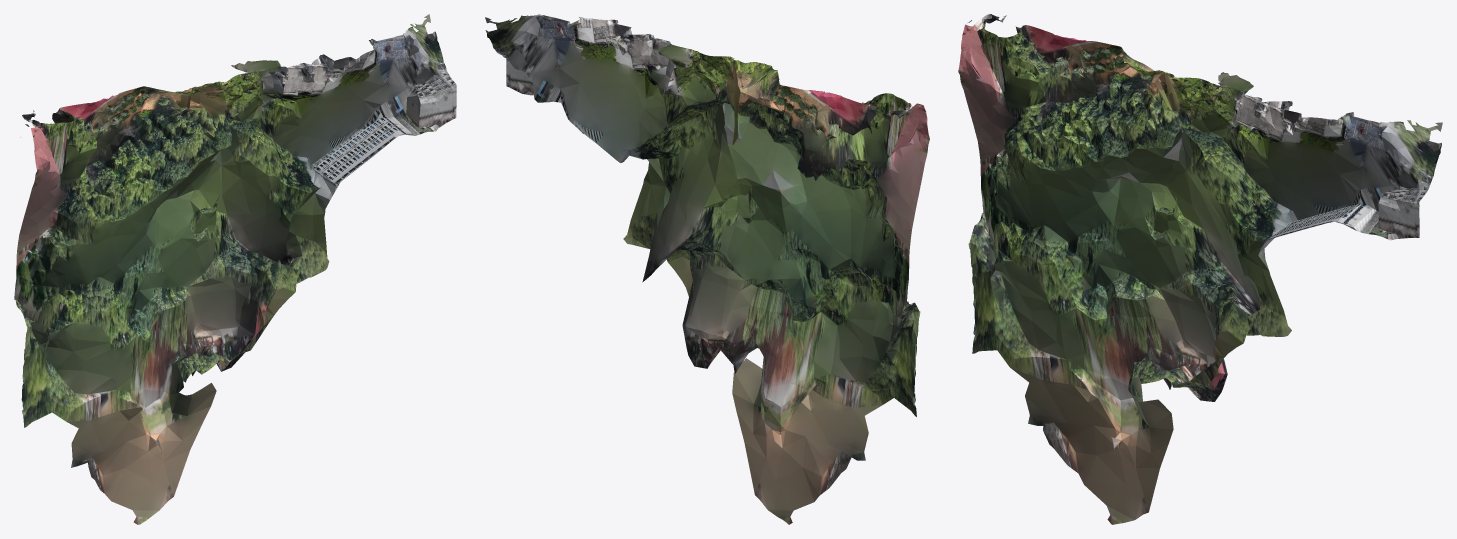
The model's file is Tile_+002_+000.obj.
3 views of the same model, side by side, from view 1: azimuth 30°, elevation 25°; view 2: azimuth 150°, elevation 25°; view 3: azimuth 330°, elevation 25° (orthographic). The views are drawn at different scales.
Size of the model in its own units: 200 by 199 by 32.02.
Materials: 1 (1 with a texture image).
